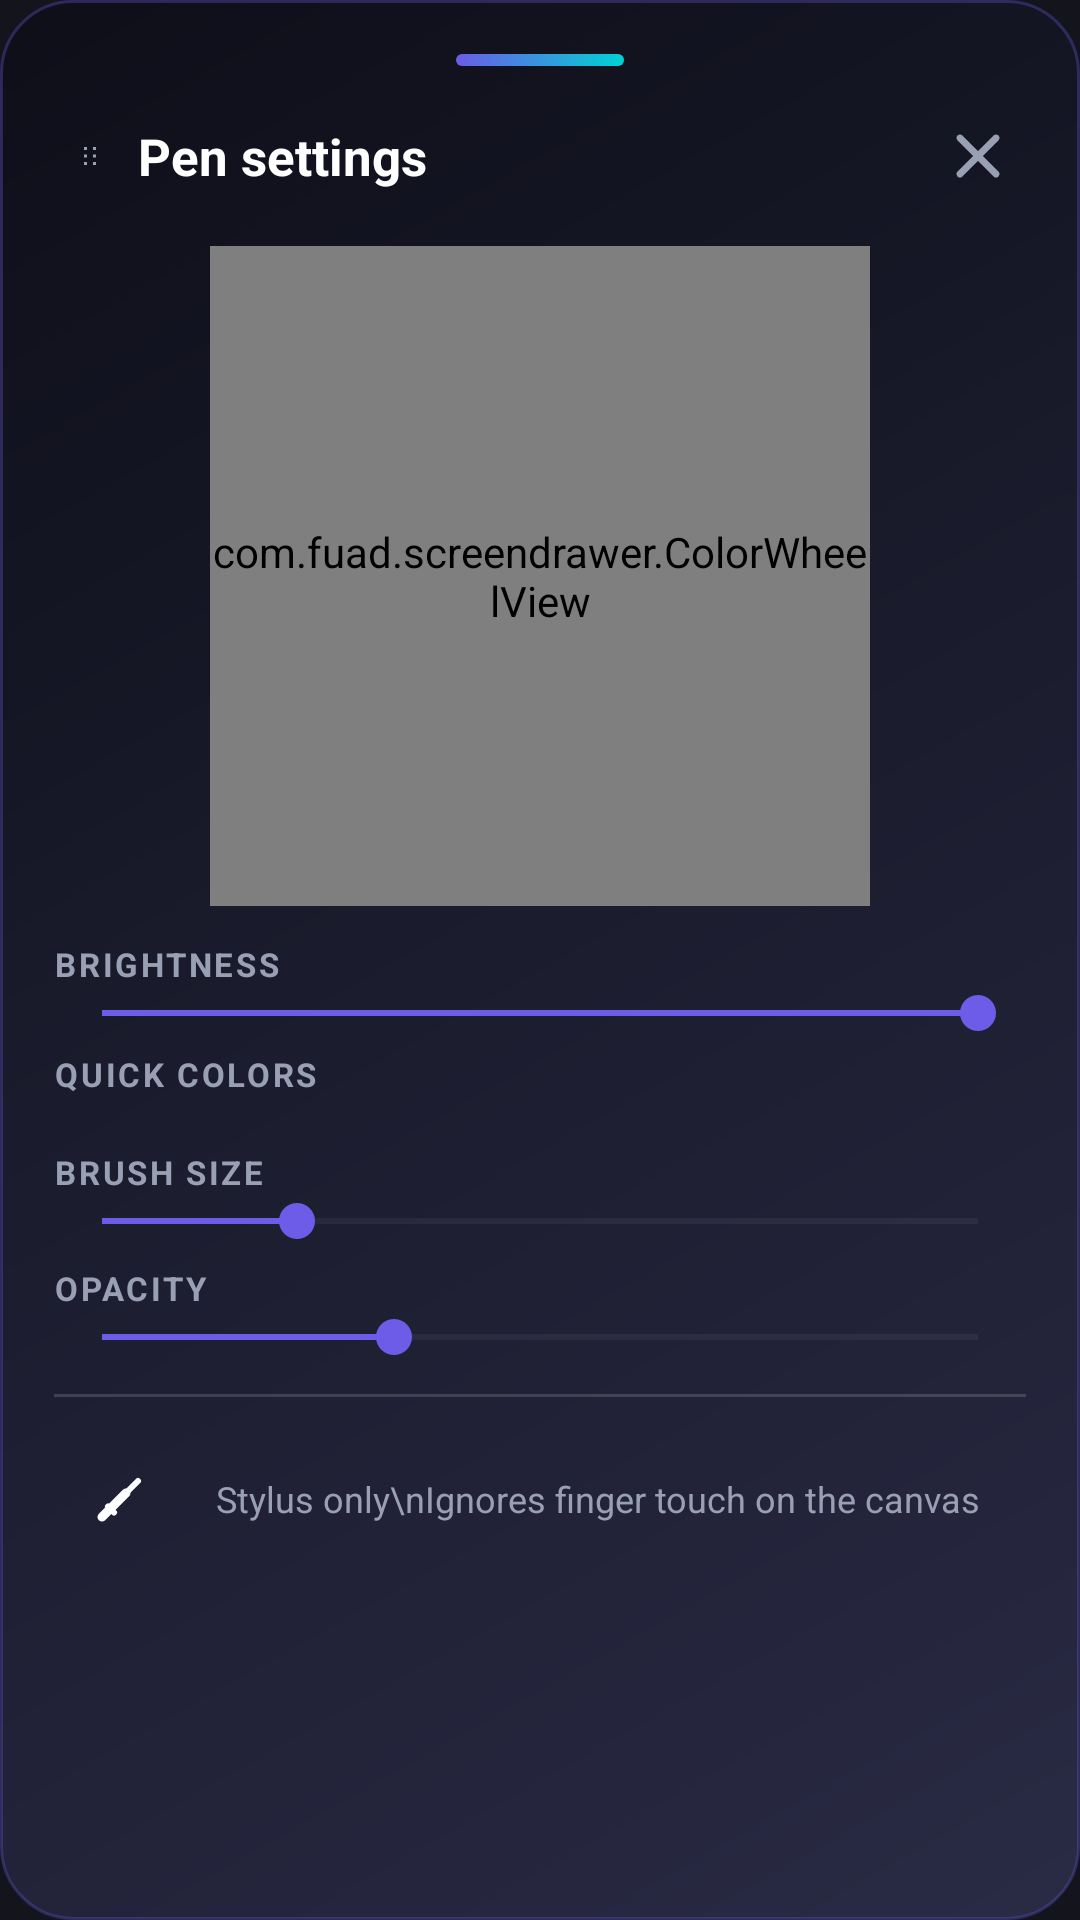

Point at icon controls on the screen. Image size 1080 × 1920, points as [x,y].
Close: [978,156]
